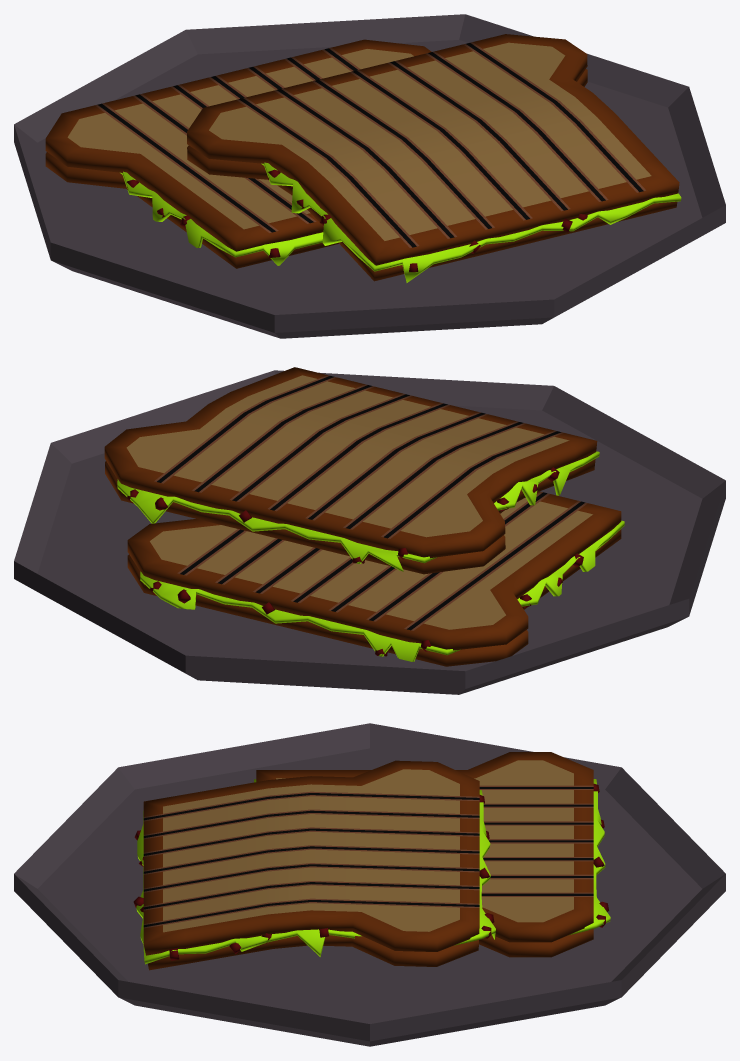
File: grilled cheese with snake bits.fbx
3 views of the same model, one above another, from view 1: azimuth 30°, elevation 25°; view 2: azimuth 150°, elevation 25°; view 3: azimuth 270°, elevation 25° (orthographic). The views are drawn at different scales.
Parts seen in each view (by area): view 1: grilled cheese; view 2: grilled cheese; view 3: grilled cheese.
Boxes of the visible parts, box(x1,y1,x2,y2) form: grilled cheese: box(14, 14, 725, 338); grilled cheese: box(14, 367, 725, 694); grilled cheese: box(14, 723, 725, 1046).
Bounding box in the file's own units: 422 × 53.12 × 422.
